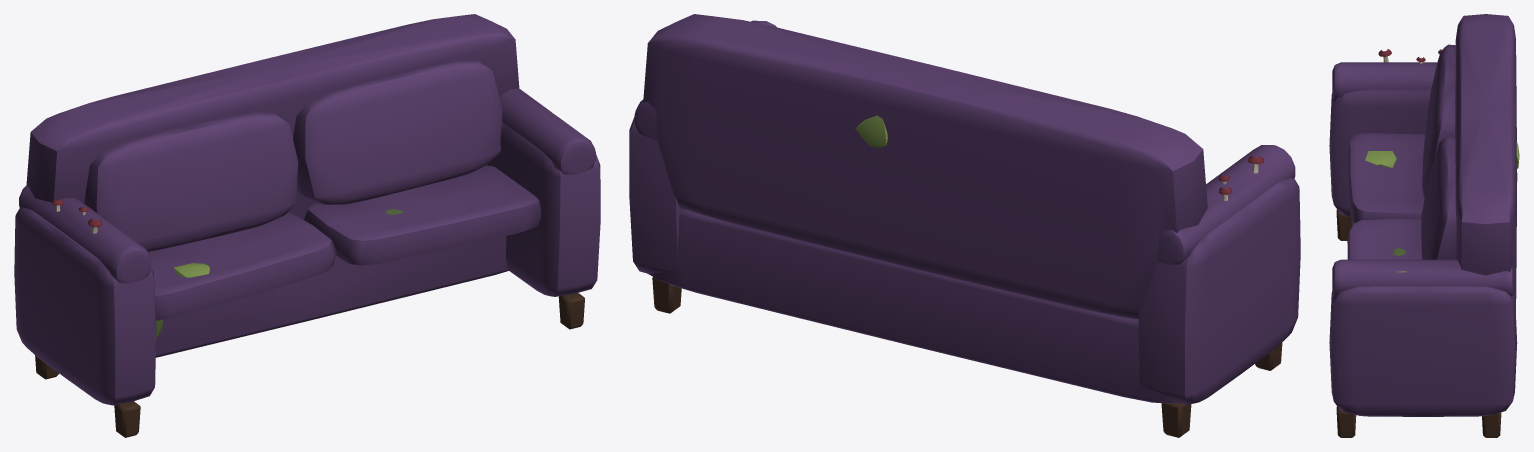
Rendered from sofa_moldy.glb.
3 views of the same model, side by side, from view 1: azimuth 30°, elevation 25°; view 2: azimuth 150°, elevation 25°; view 3: azimuth 270°, elevation 25° (orthographic). The views are drawn at different scales.
Visible parts, largest first — view 1: sofa_moldy; view 2: sofa_moldy; view 3: sofa_moldy.
Part boxes in pixels (bbox=[...]): sofa_moldy: bbox=[14, 14, 600, 437]; sofa_moldy: bbox=[629, 14, 1300, 437]; sofa_moldy: bbox=[1329, 14, 1519, 437].
Size of the model in its own units: 1.84 by 0.9 by 0.6682.
